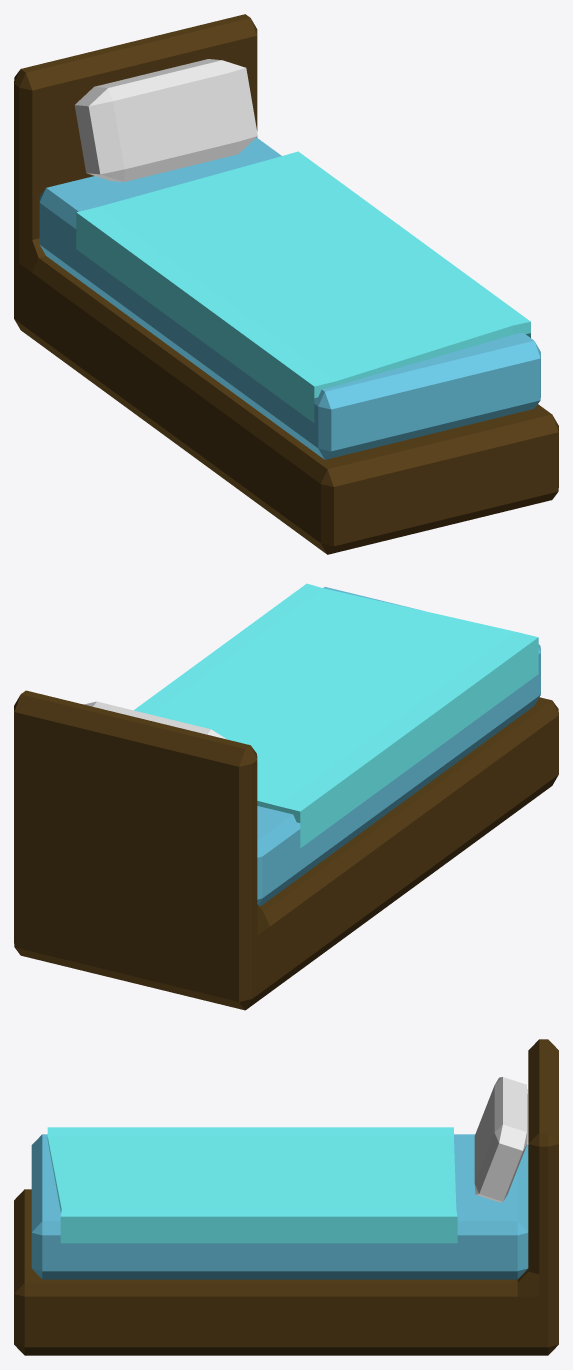
The model's file is bed_twin.fbx.
3 views of the same model, one above another, from view 1: azimuth 30°, elevation 25°; view 2: azimuth 150°, elevation 25°; view 3: azimuth 270°, elevation 25° (orthographic). The views are drawn at different scales.
Parts seen in each view (by area): view 1: Bed.001, Covers.001, Cube.001; view 2: Bed.001, Covers.001, Cube.001; view 3: Bed.001, Covers.001, Cube.001.
Boxes of the visible parts, <box> form: Bed.001: <box>14,14,558,554</box>; Covers.001: <box>76,151,530,422</box>; Cube.001: <box>74,59,257,181</box>; Bed.001: <box>14,587,558,1010</box>; Covers.001: <box>134,583,538,848</box>; Cube.001: <box>84,701,226,739</box>; Bed.001: <box>14,1039,558,1355</box>; Covers.001: <box>47,1127,457,1243</box>; Cube.001: <box>474,1077,527,1202</box>.
Size of the model in its own units: 157 by 165 by 365.
